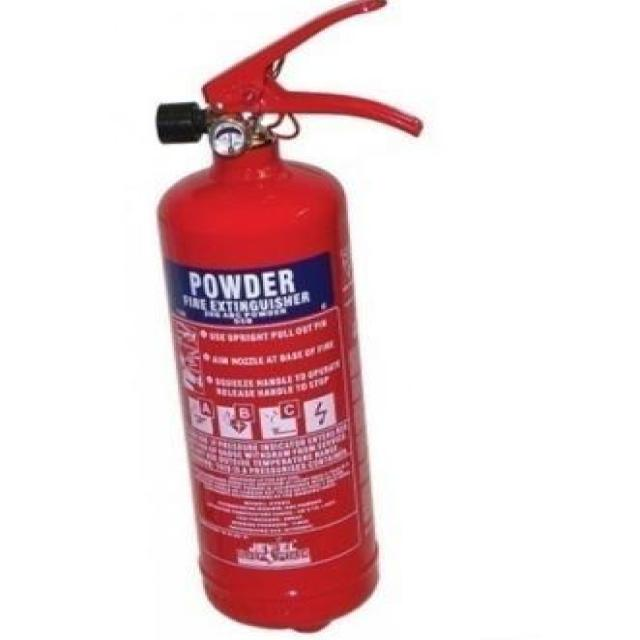fire_extinguisher: (149, 0, 429, 633)
